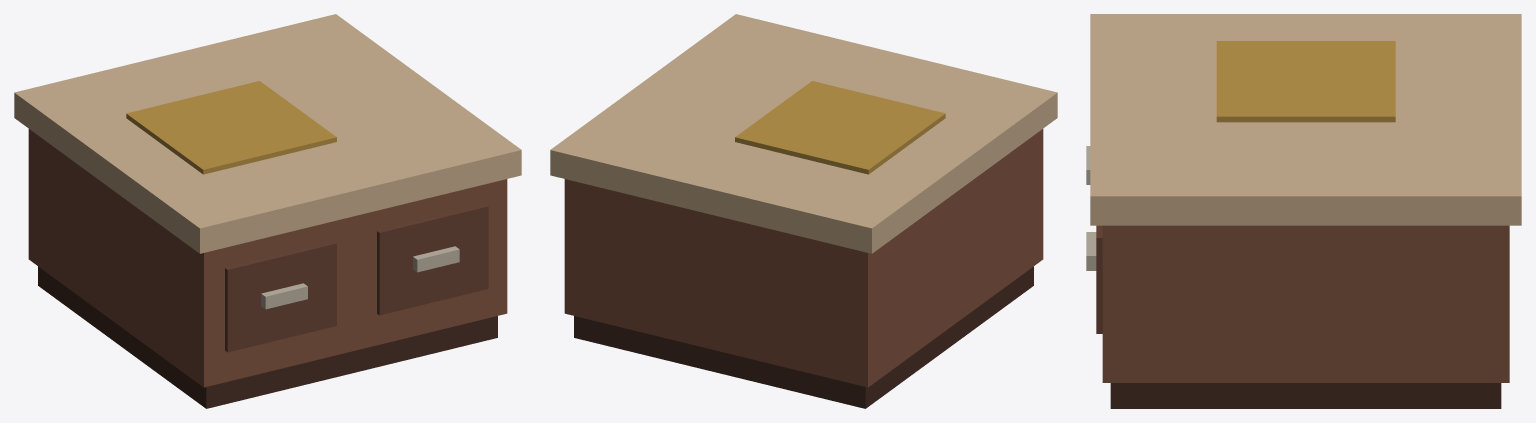
File: k_meadow_hatch.glb
The picture shows the model from 3 angles, left to right: view 1: azimuth 30°, elevation 25°; view 2: azimuth 150°, elevation 25°; view 3: azimuth 270°, elevation 25°; orthographic projection. The views are drawn at different scales.
Visible parts, largest first — view 1: piece; view 2: piece; view 3: piece.
Part boxes in pixels (x1,y1,x2,y2): piece: (14, 14, 521, 408); piece: (550, 14, 1057, 408); piece: (1086, 14, 1521, 408).
Bounding box in the file's own units: 1.06 × 0.615 × 1.07.
